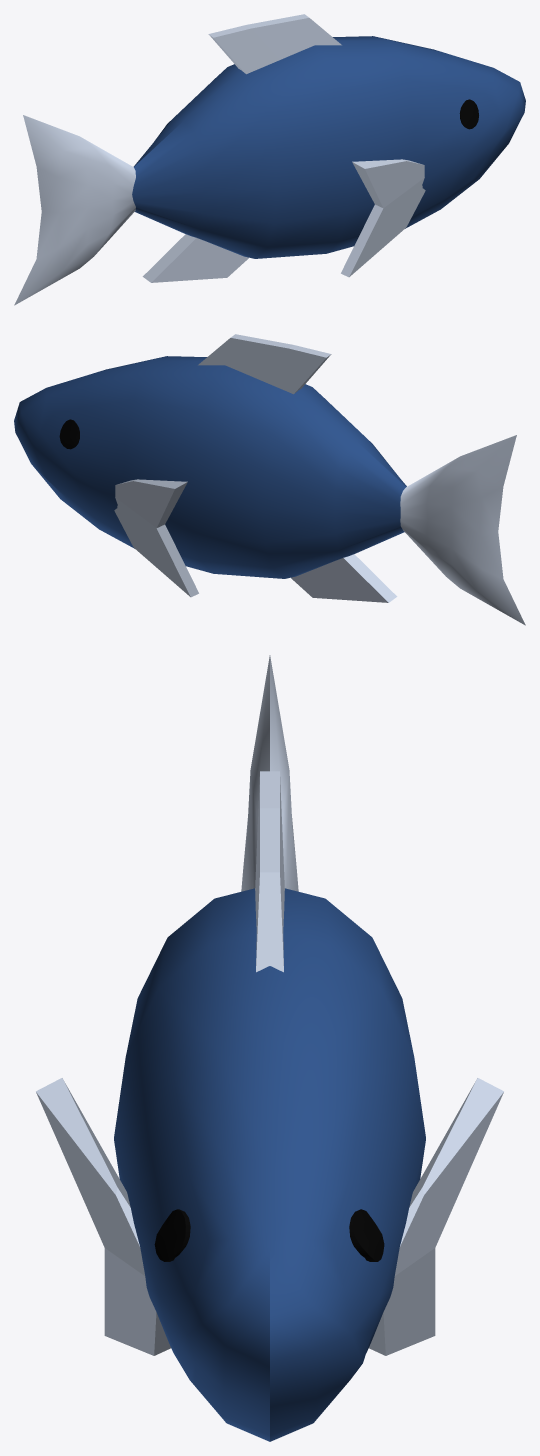
The model's file is sakana.fbx.
3 renders of one model, top to bottom at view 1: azimuth 30°, elevation 25°; view 2: azimuth 150°, elevation 25°; view 3: azimuth 270°, elevation 25°, orthographic. The views are drawn at different scales.
Parts seen in each view (by area): view 1: pCube8; view 2: pCube8; view 3: pCube8.
Boxes of the visible parts, x1,y1,x2,y2 form: pCube8: (14, 14, 525, 305); pCube8: (14, 334, 525, 625); pCube8: (36, 655, 503, 1441).
Size of the model in its own units: 17.22 by 7.82 by 6.82.
